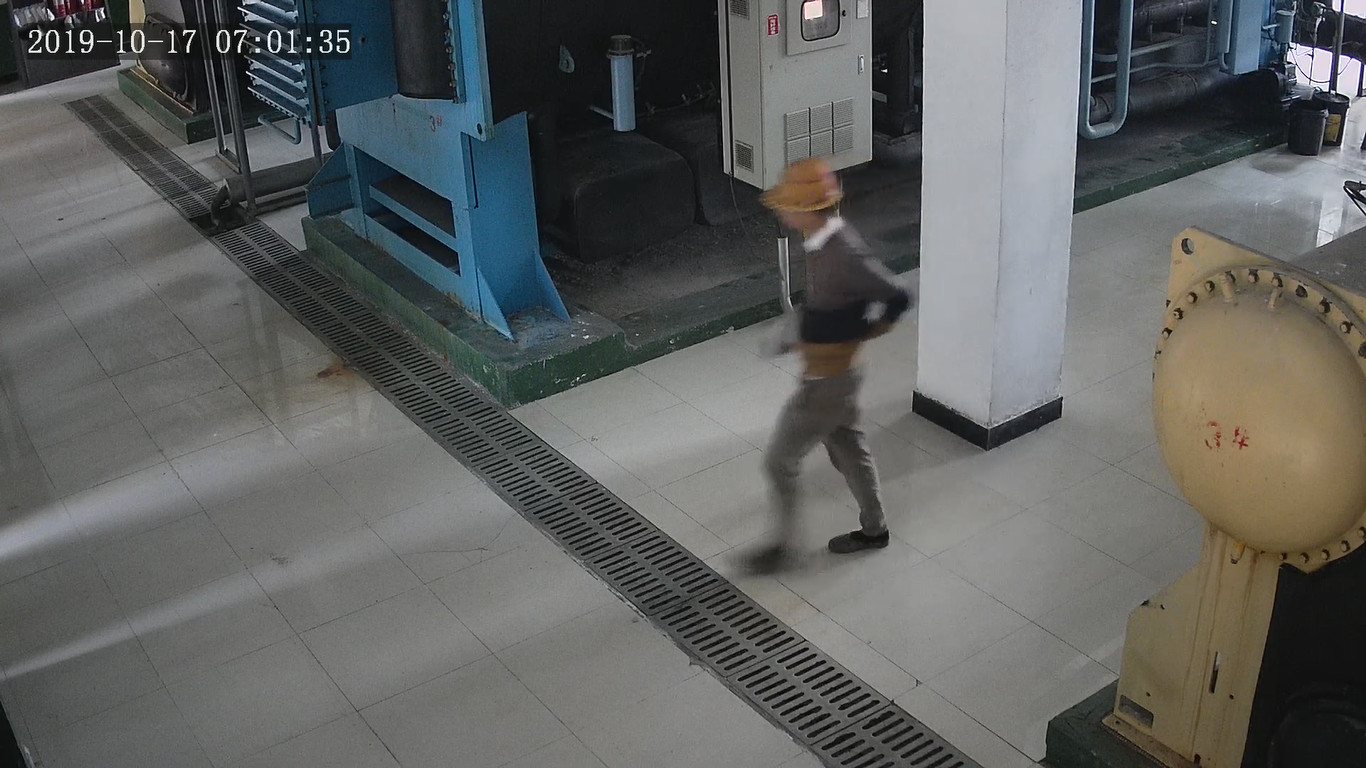helmet: (759, 157, 845, 211)
